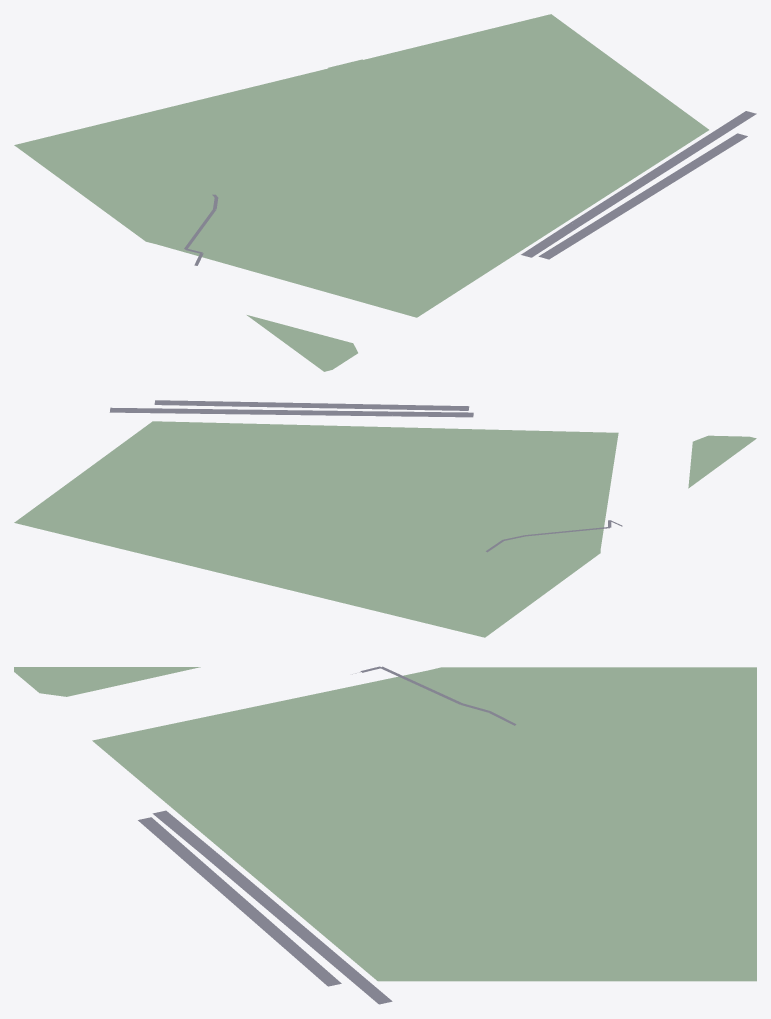
The model's file is 130_127_mid.glb.
3 renders of one model, top to bottom at view 1: azimuth 30°, elevation 25°; view 2: azimuth 150°, elevation 25°; view 3: azimuth 270°, elevation 25°, orthographic. The views are drawn at different scales.
Size of the model in its own units: 545 by 6.58 by 500.
